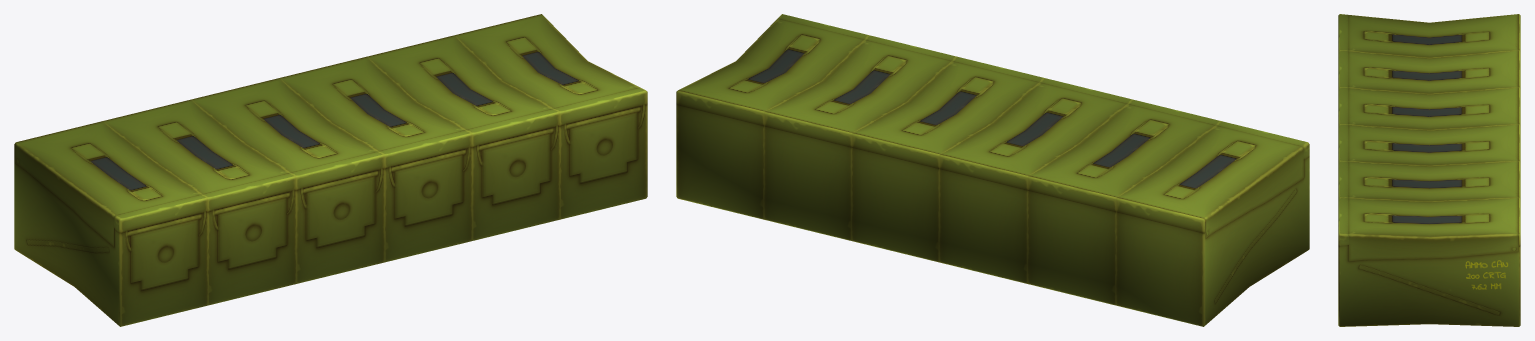
File: AmmoCan01_4.FBX
3 views of the same model, side by side, from view 1: azimuth 30°, elevation 25°; view 2: azimuth 150°, elevation 25°; view 3: azimuth 270°, elevation 25° (orthographic). The views are drawn at different scales.
Parts seen in each view (by area): view 1: AmmoCan01_4; view 2: AmmoCan01_4; view 3: AmmoCan01_4.
Boxes of the visible parts, bbox=[...] form: AmmoCan01_4: bbox=[14, 14, 647, 326]; AmmoCan01_4: bbox=[676, 14, 1309, 326]; AmmoCan01_4: bbox=[1338, 14, 1520, 326].
Size of what is drawn, in the model's own units: 1.31 by 0.2569 by 0.4566.
